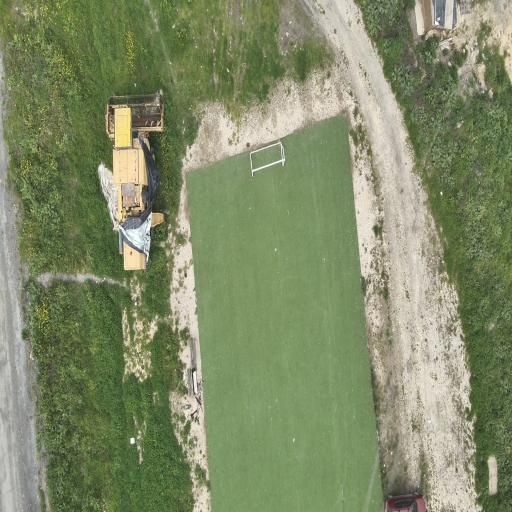car: (385, 494, 426, 511)
harvester: (107, 94, 163, 270)
